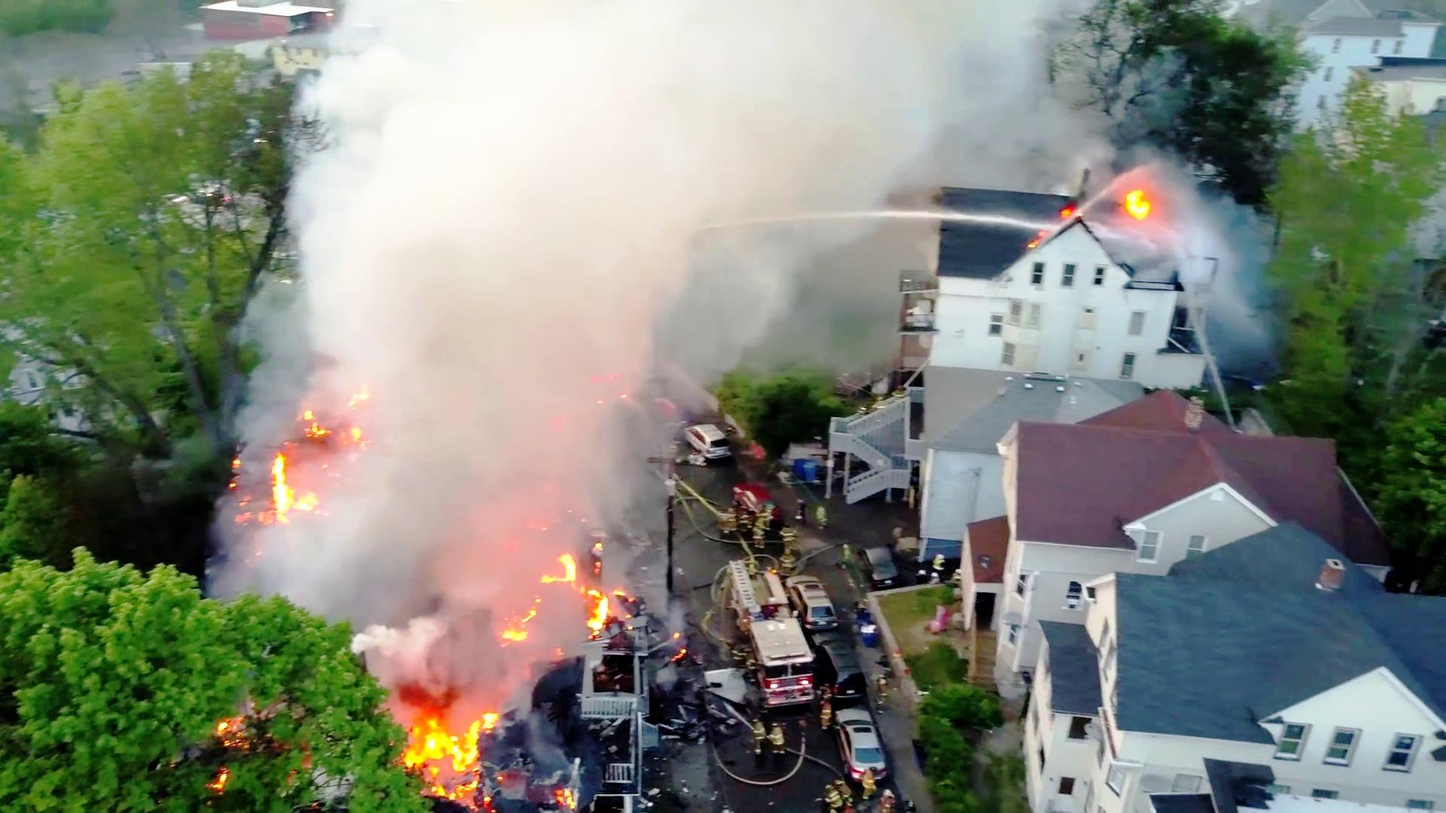fire: (256, 420, 362, 533), (388, 693, 481, 810)
smoke: (376, 0, 561, 516)
